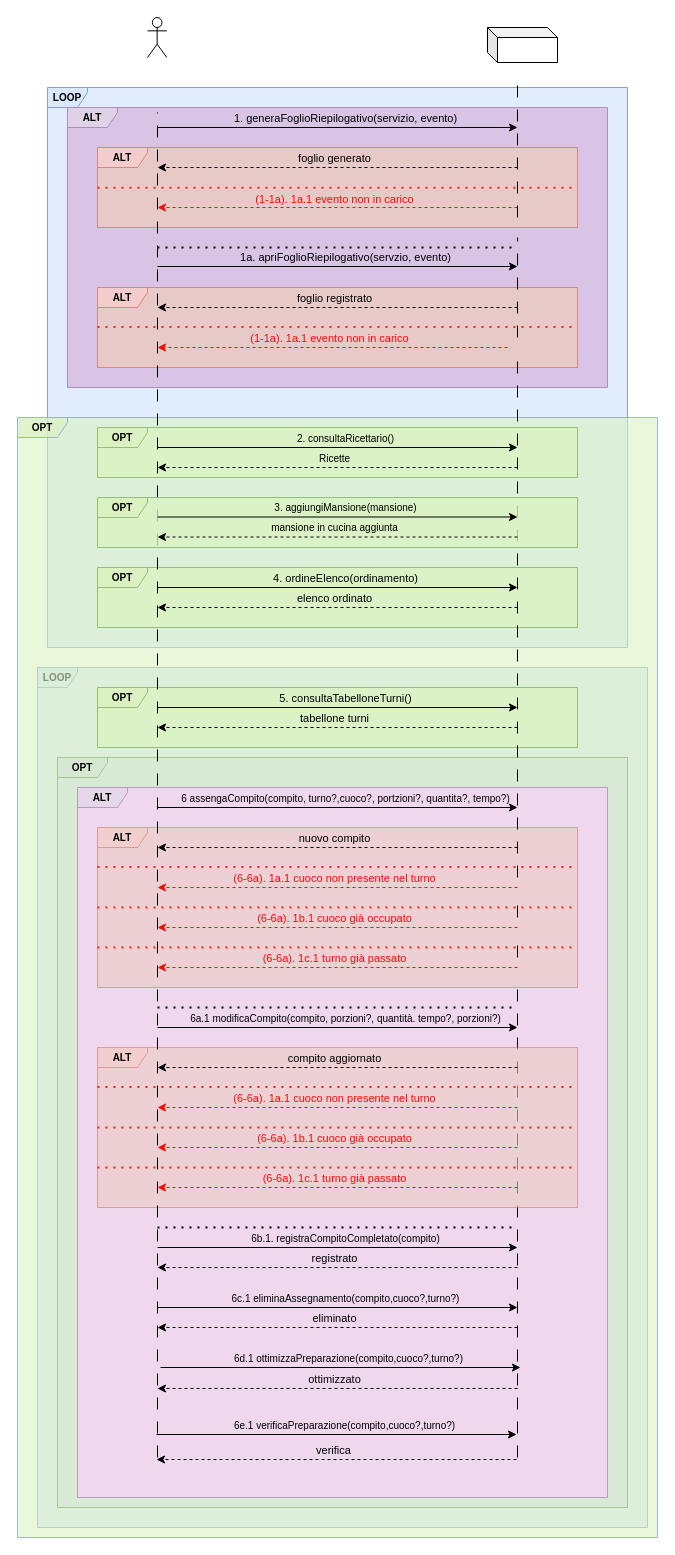
Some shapes in this 675 by 1555 pixel diagram are drawn without their labels. Each missing label, with the box of its shape:
Chef: (146, 16, 167, 58)
System: (486, 26, 558, 62)
